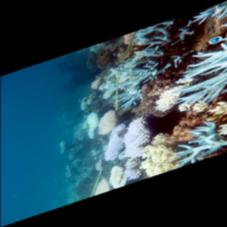bleached_corals: (115, 6, 227, 111)
